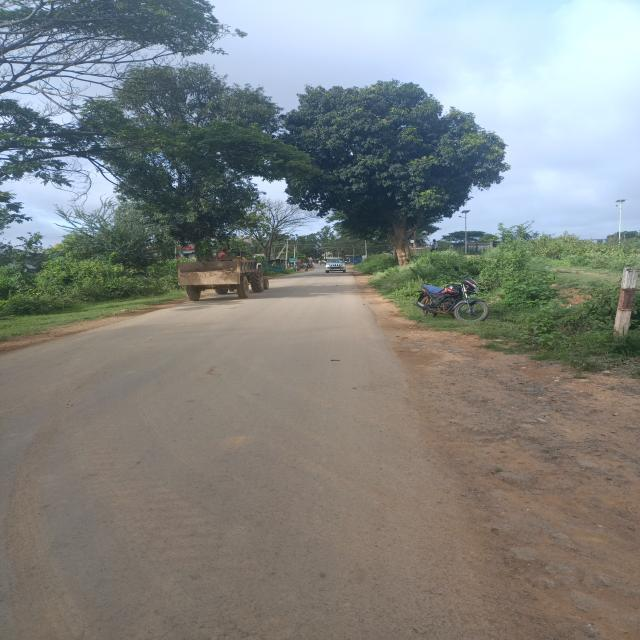car_front: (321, 255, 350, 278)
tractor_back: (169, 238, 276, 302)
two_wheeler_front: (412, 271, 490, 326)
